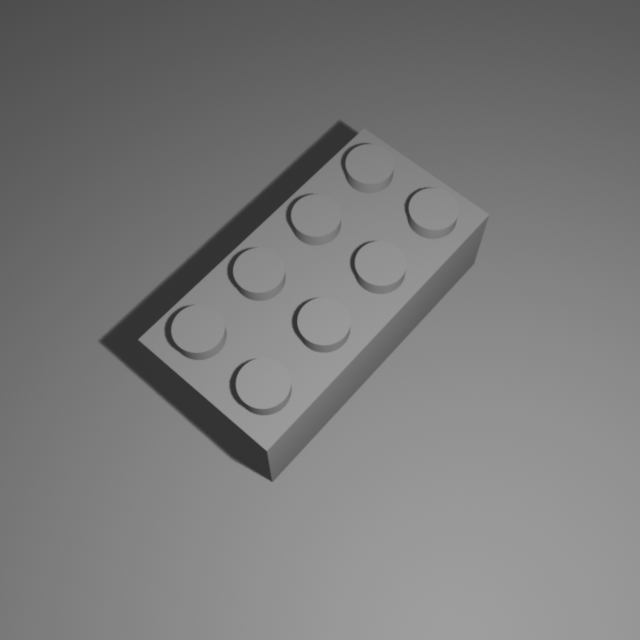lego_2x4: (135, 118, 492, 482)
